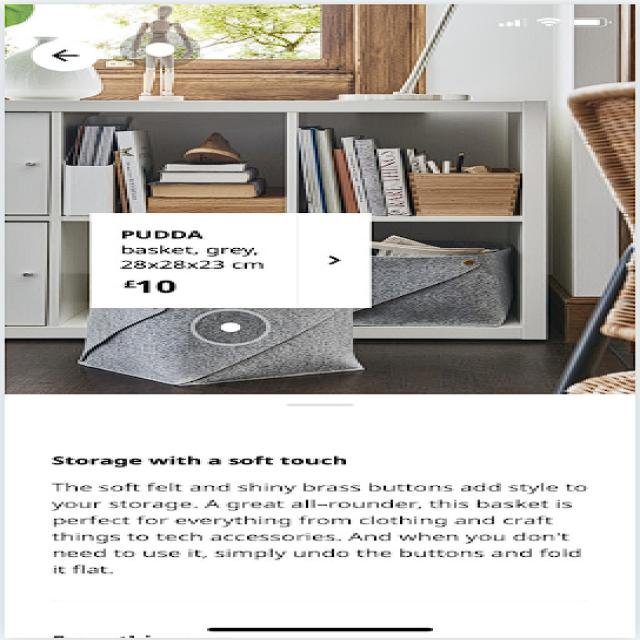icon button: (27, 32, 110, 76)
image: (0, 75, 640, 394)
spacer: (16, 400, 618, 438)
text: (42, 448, 611, 588)
